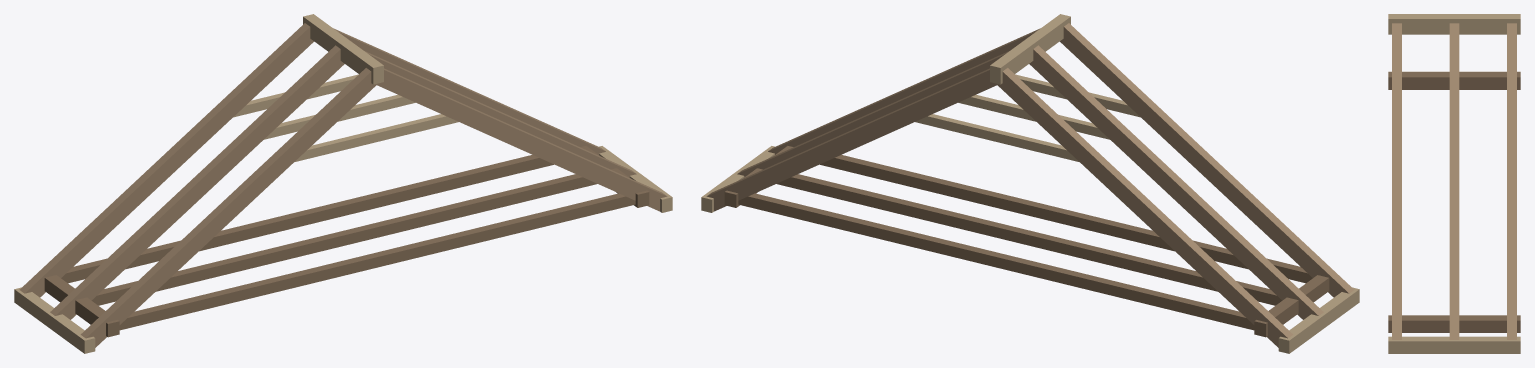
The model's file is 01_Exposed_Rafter_Bay_2m.glb.
3 views of the same model, side by side, from view 1: azimuth 30°, elevation 25°; view 2: azimuth 150°, elevation 25°; view 3: azimuth 270°, elevation 25° (orthographic). The views are drawn at different scales.
Visible parts, largest first — view 1: Rafter_Tie_2, Rafter_2_West, Rafter_0_West, Rafter_1_West, Rafter_Tie_1, Rafter_Tie_0, Rafter_2_East, Rafter_1_East, Rafter_0_East, Collar_Tie_2, Ridge_Board, Longitudinal_Fascia_-1 (+4 smaller); view 2: Rafter_Tie_0, Rafter_0_West, Rafter_2_West, Rafter_1_West, Rafter_Tie_1, Rafter_Tie_2, Rafter_0_East, Rafter_1_East, Rafter_2_East, Collar_Tie_0, Ridge_Board, Longitudinal_Fascia_-1 (+4 smaller); view 3: Rafter_1_East, Rafter_0_East, Rafter_2_East, Ridge_Board, Longitudinal_Fascia_1, Longitudinal_Eave_Plate_-1, Longitudinal_Eave_Plate_1.
Boxes of the visible parts, x1,y1,x2,y2 form: Rafter_Tie_2: (119, 193, 635, 330); Rafter_2_West: (80, 68, 377, 347); Rafter_0_West: (19, 23, 313, 297); Rafter_1_West: (50, 45, 344, 319); Rafter_Tie_1: (91, 174, 597, 305); Rafter_Tie_0: (61, 155, 553, 283); Rafter_2_East: (377, 68, 667, 211); Rafter_1_East: (364, 51, 636, 177); Rafter_0_East: (333, 28, 605, 154); Collar_Tie_2: (295, 114, 458, 161); Ridge_Board: (303, 14, 383, 84); Longitudinal_Fascia_-1: (14, 287, 95, 353); Rafter_Tie_0: (738, 193, 1254, 330); Rafter_0_West: (996, 68, 1293, 347); Rafter_2_West: (1060, 23, 1354, 297); Rafter_1_West: (1029, 45, 1323, 319); Rafter_Tie_1: (776, 174, 1282, 305); Rafter_Tie_2: (820, 155, 1312, 283); Rafter_0_East: (706, 68, 996, 211); Rafter_1_East: (737, 51, 1009, 177); Rafter_2_East: (768, 28, 1040, 154); Collar_Tie_0: (915, 114, 1078, 161); Ridge_Board: (990, 14, 1070, 84); Longitudinal_Fascia_-1: (1278, 287, 1359, 353); Rafter_1_East: (1449, 23, 1459, 339); Rafter_0_East: (1507, 23, 1516, 339); Rafter_2_East: (1392, 23, 1401, 339); Ridge_Board: (1388, 14, 1520, 34); Longitudinal_Fascia_1: (1388, 336, 1520, 353); Longitudinal_Eave_Plate_-1: (1388, 72, 1520, 89); Longitudinal_Eave_Plate_1: (1388, 315, 1520, 332).
Size of the model in its own units: 11.1 by 3.9 by 2.3.
